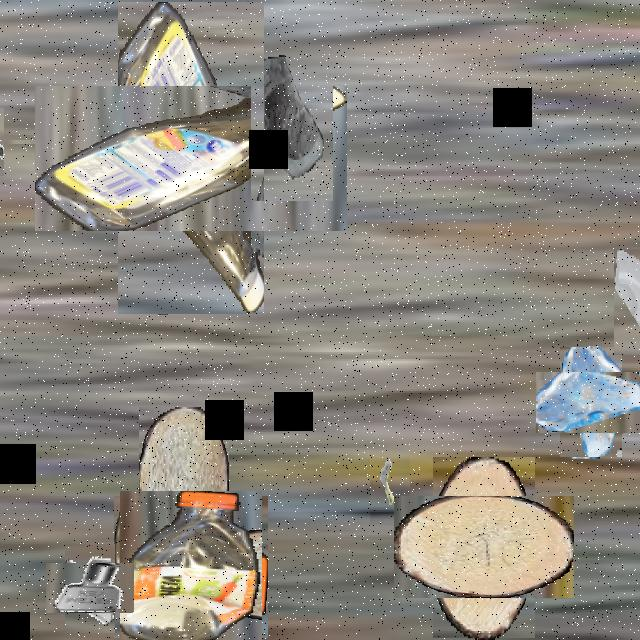glass: (251, 55, 333, 201), (548, 359, 634, 445), (614, 249, 640, 355)
metal: (55, 554, 125, 623), (370, 454, 410, 524), (0, 124, 20, 159)
plastic: (77, 43, 306, 273), (117, 493, 265, 640)
wood: (413, 477, 555, 618), (139, 407, 229, 557)
